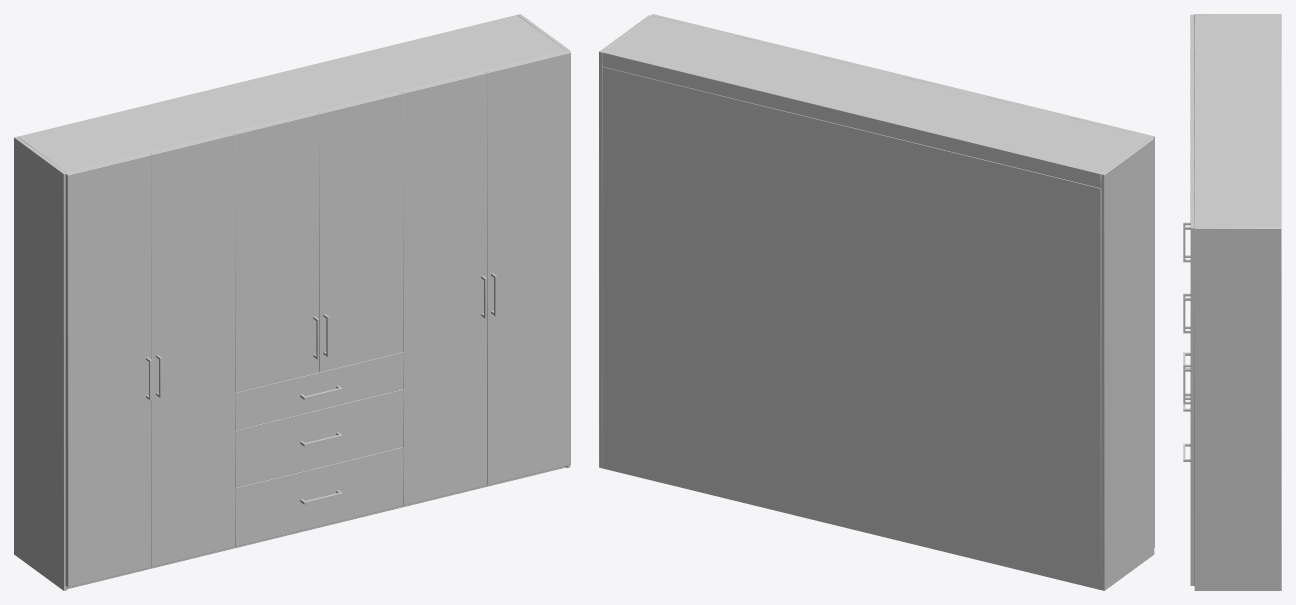
File: abo-B015IPNVFW.glb
3 views of the same model, side by side, from view 1: azimuth 30°, elevation 25°; view 2: azimuth 150°, elevation 25°; view 3: azimuth 270°, elevation 25° (orthographic). The views are drawn at different scales.
Size of the model in its own units: 3 by 2.36 by 0.5799.
1 material, 1 textured.
